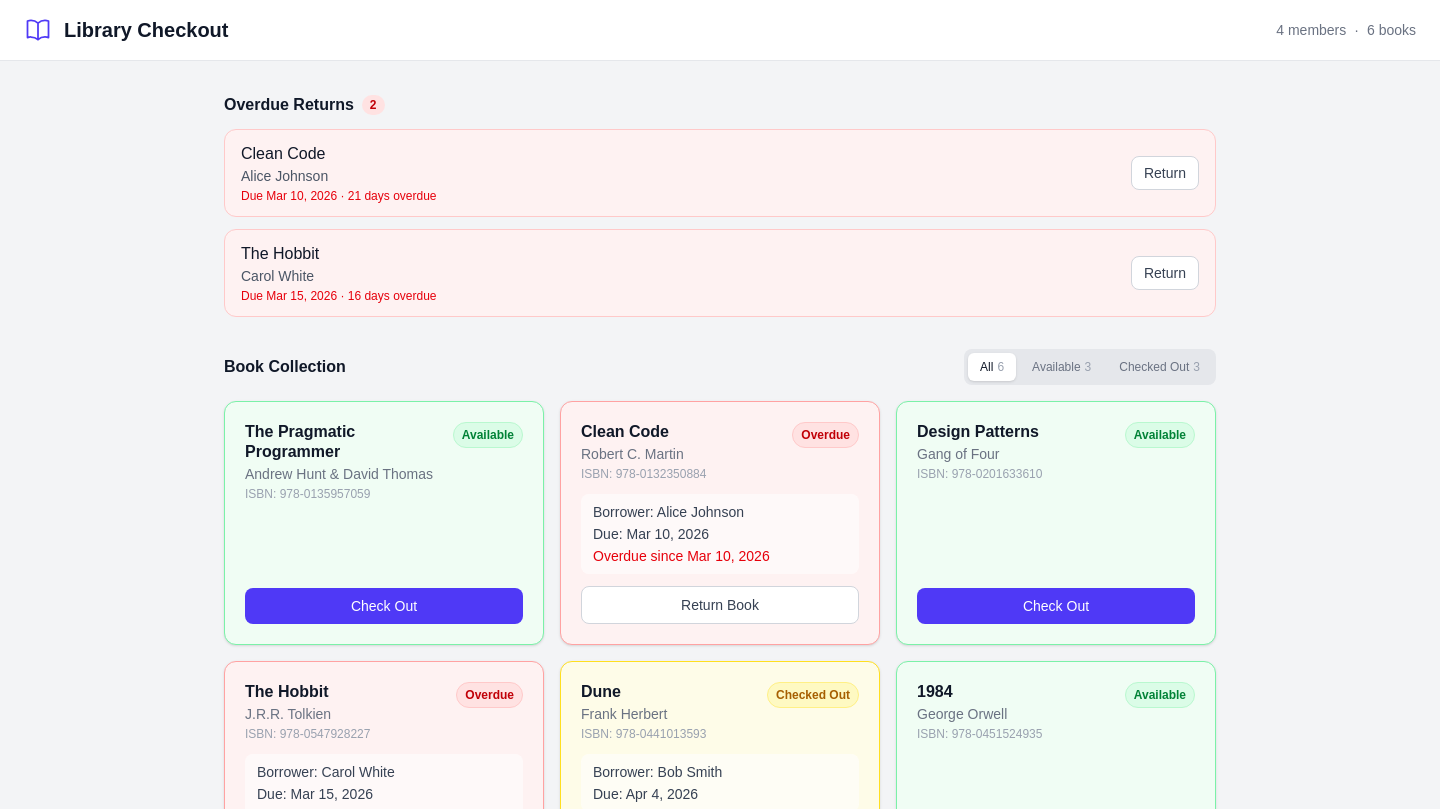
Scenario: HomeView › tab filtering › filters to available books when Available tab is clicked
Click the button "Available3": (1062, 367) [1020,353,1103,381]
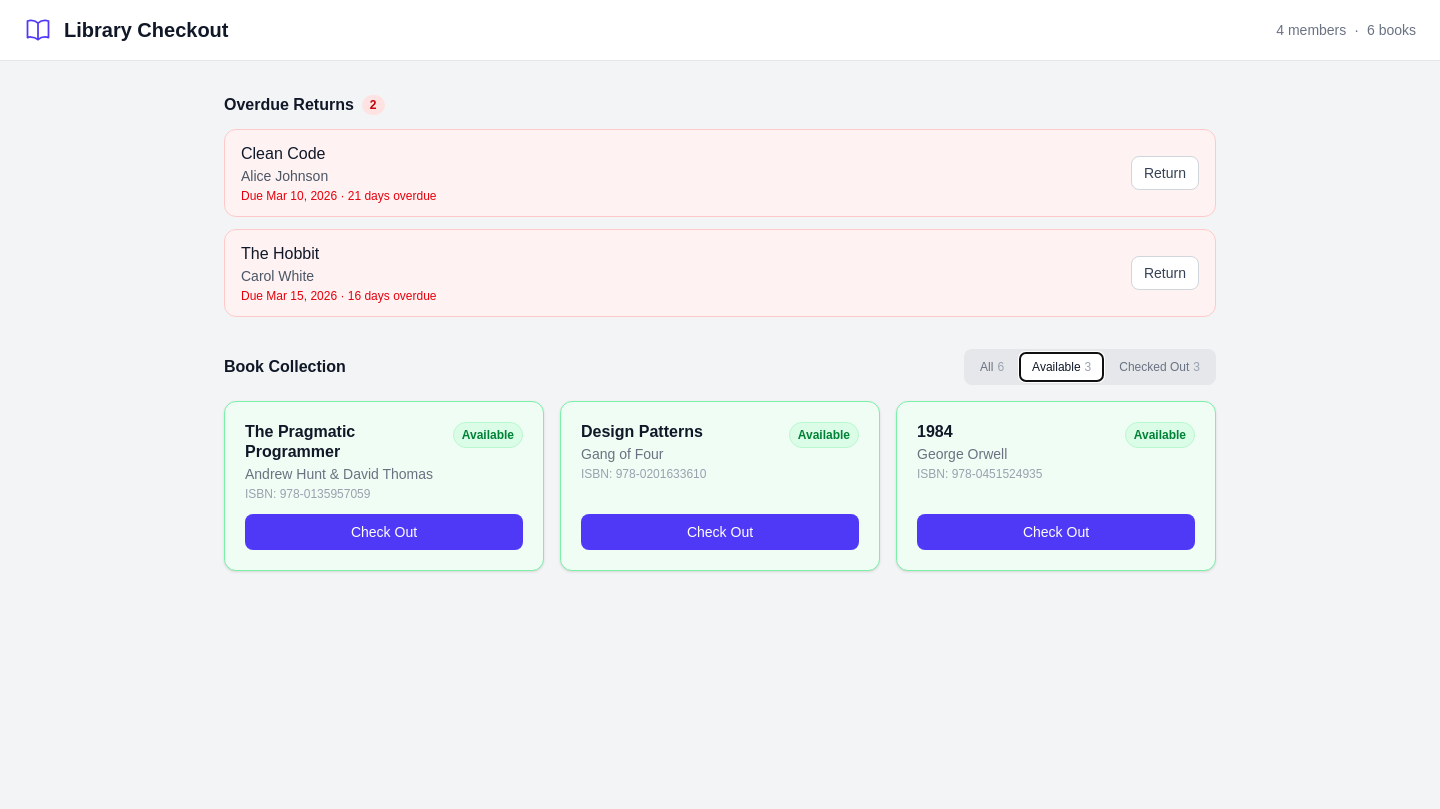
Result: the heading "Dune" is gone
